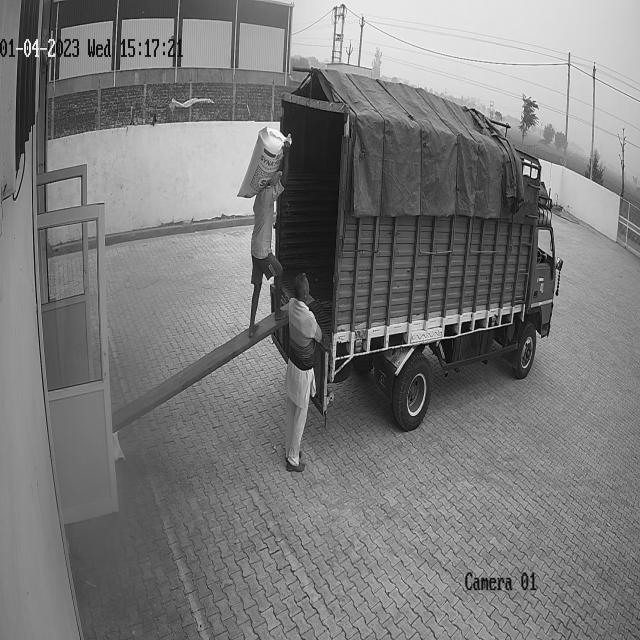sack: (237, 127, 290, 200)
